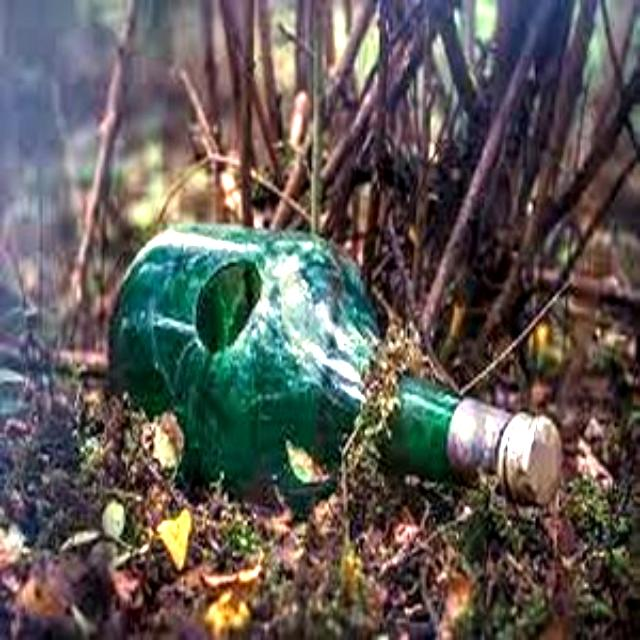Glass: (99, 212, 556, 498)
